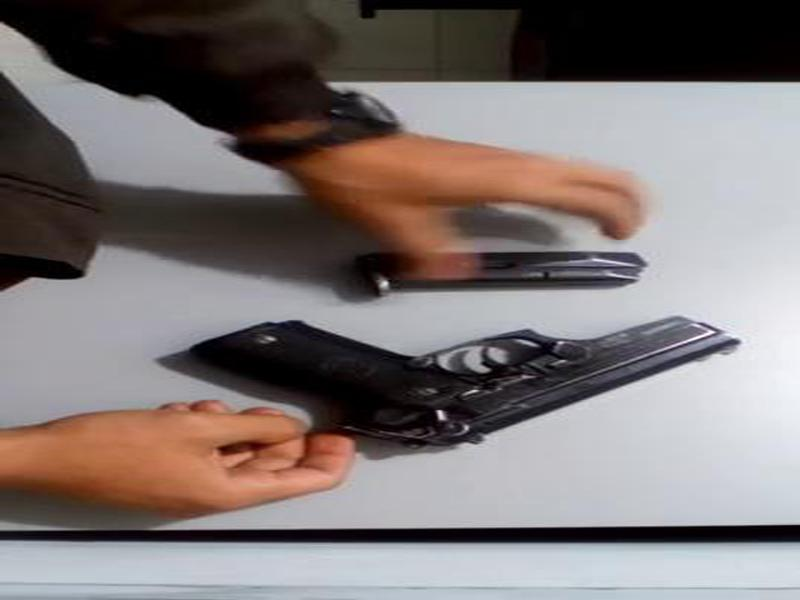Pistola: (171, 284, 761, 481)
